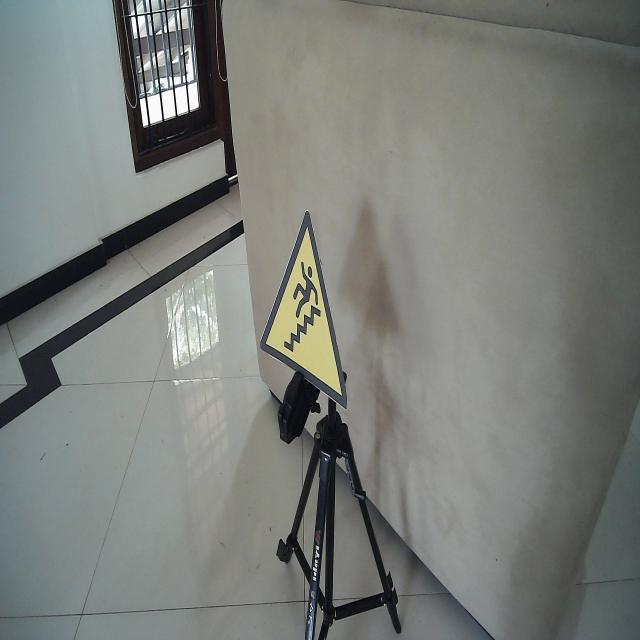stairs: (258, 206, 350, 412)
